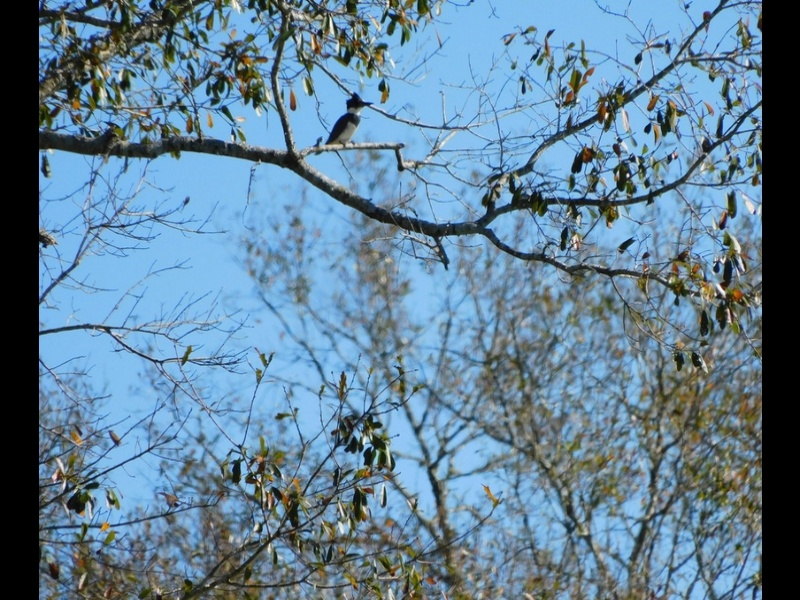kingfisher: (317, 92, 374, 158)
